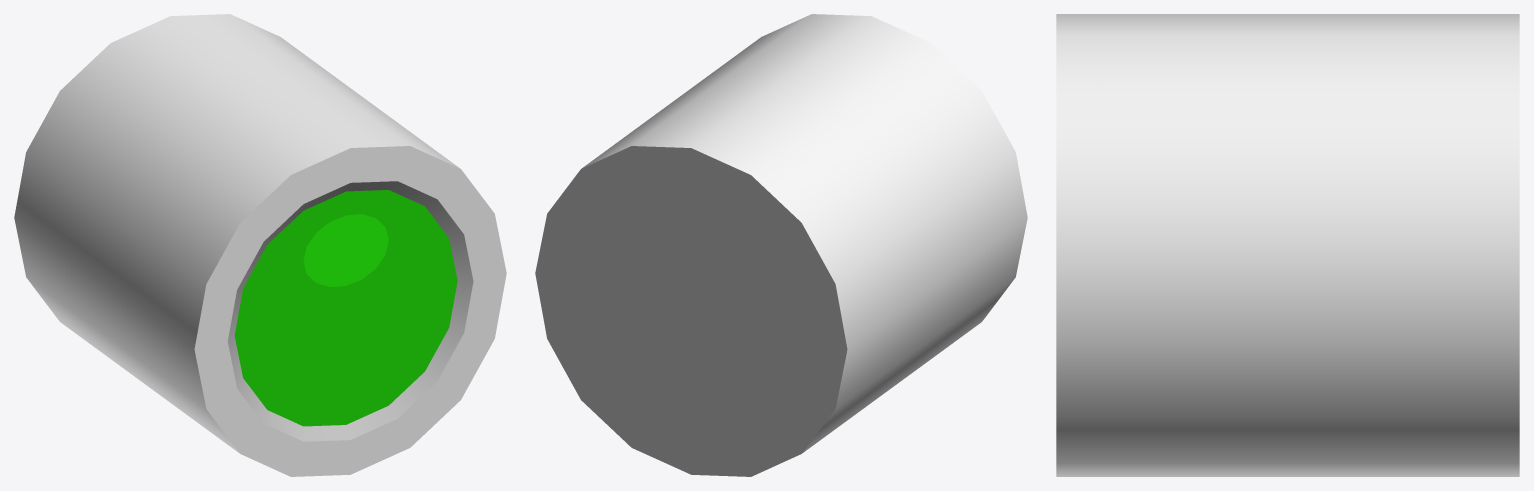
File: D_FBX_06_Bumper_03.fbx
The picture shows the model from 3 angles, left to right: view 1: azimuth 30°, elevation 25°; view 2: azimuth 150°, elevation 25°; view 3: azimuth 270°, elevation 25°; orthographic projection. The views are drawn at different scales.
Visible parts, largest first — view 1: D_FBX_06_Bumper_03; view 2: D_FBX_06_Bumper_03; view 3: D_FBX_06_Bumper_03.
Boxes of the visible parts, x1,y1,x2,y2 form: D_FBX_06_Bumper_03: (14, 14, 506, 476); D_FBX_06_Bumper_03: (535, 14, 1027, 476); D_FBX_06_Bumper_03: (1056, 14, 1519, 476).
Bounding box in the file's own units: 180 × 180 × 180.
